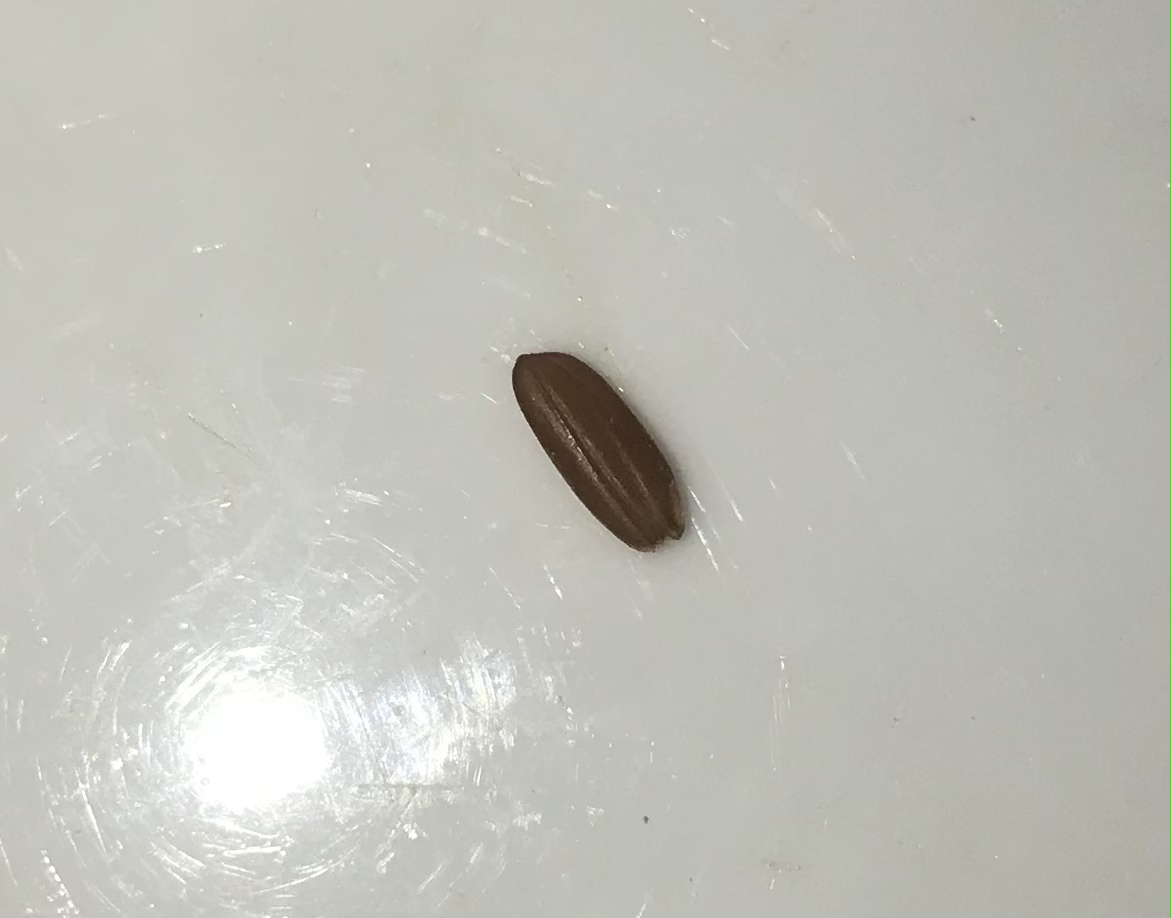Gao Lut Do: (503, 339, 707, 568)
